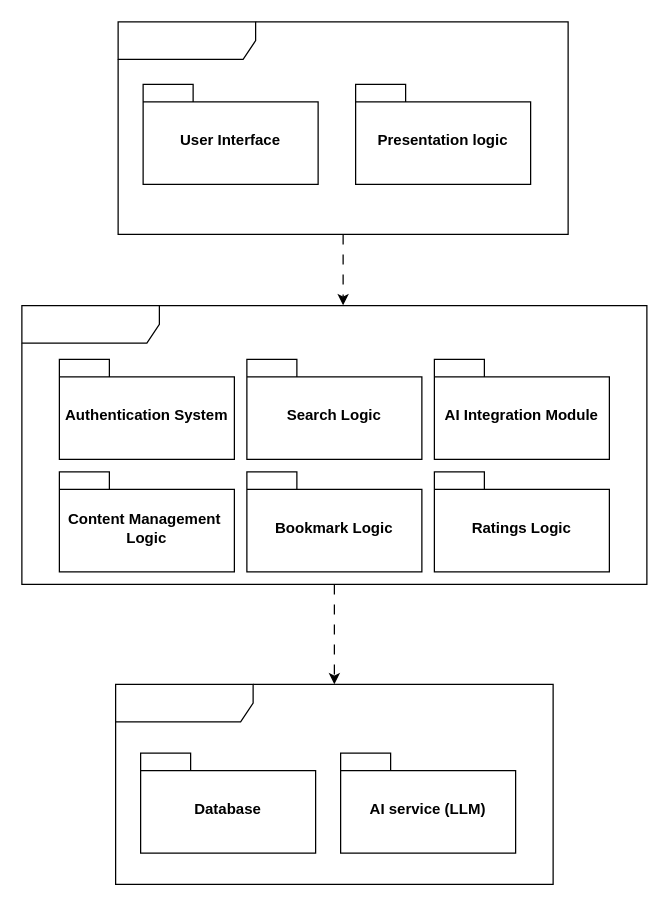
Some shapes in this 669 by 906 pixel diagram are drawn without their labels. The shapes that lost their labels are listed below. From the top down, each one's box as (x1, y1, x2, y2) in pixels, then its label:
(117, 21, 568, 234): Frontend
(21, 304, 647, 584): Backend
(114, 683, 553, 884): External Services
